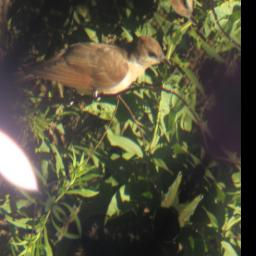Cuckoo: (5, 0, 176, 181)
